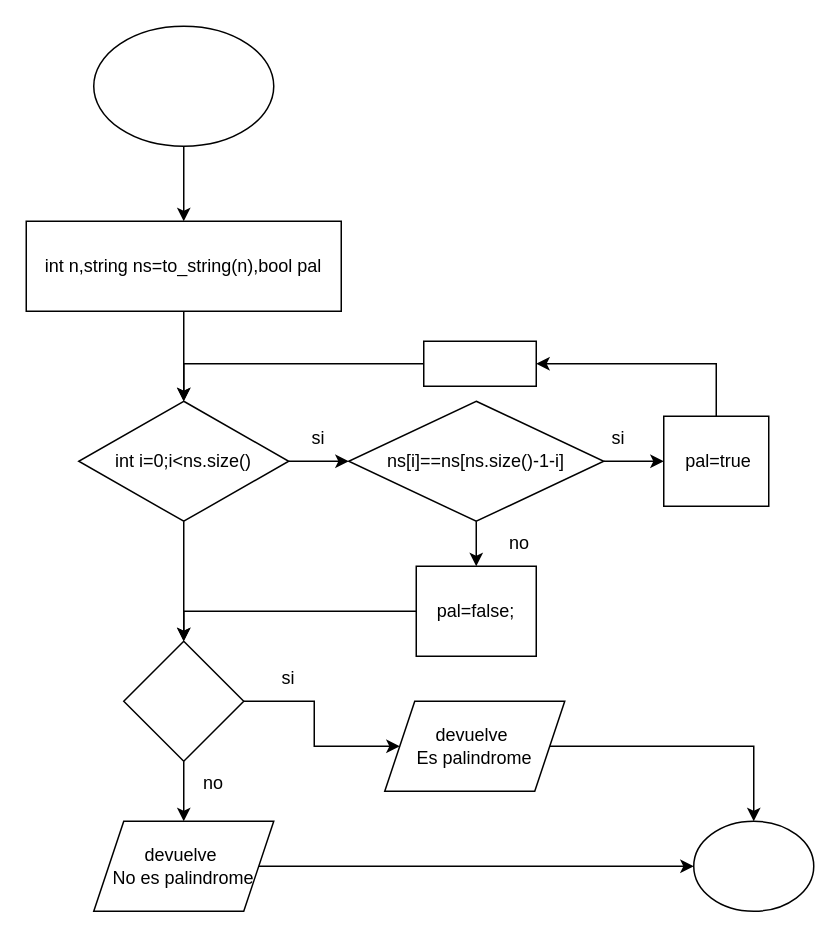
Image size: 840x938. Some labels were removed from this diagram. The box of each missing label's shape, as (x1, y1, x2, y2) in pixels:
FIN: (692, 820, 814, 911)
i++: (422, 340, 536, 386)
INICIO 14: (92, 25, 274, 146)
pal==true: (122, 640, 244, 761)
